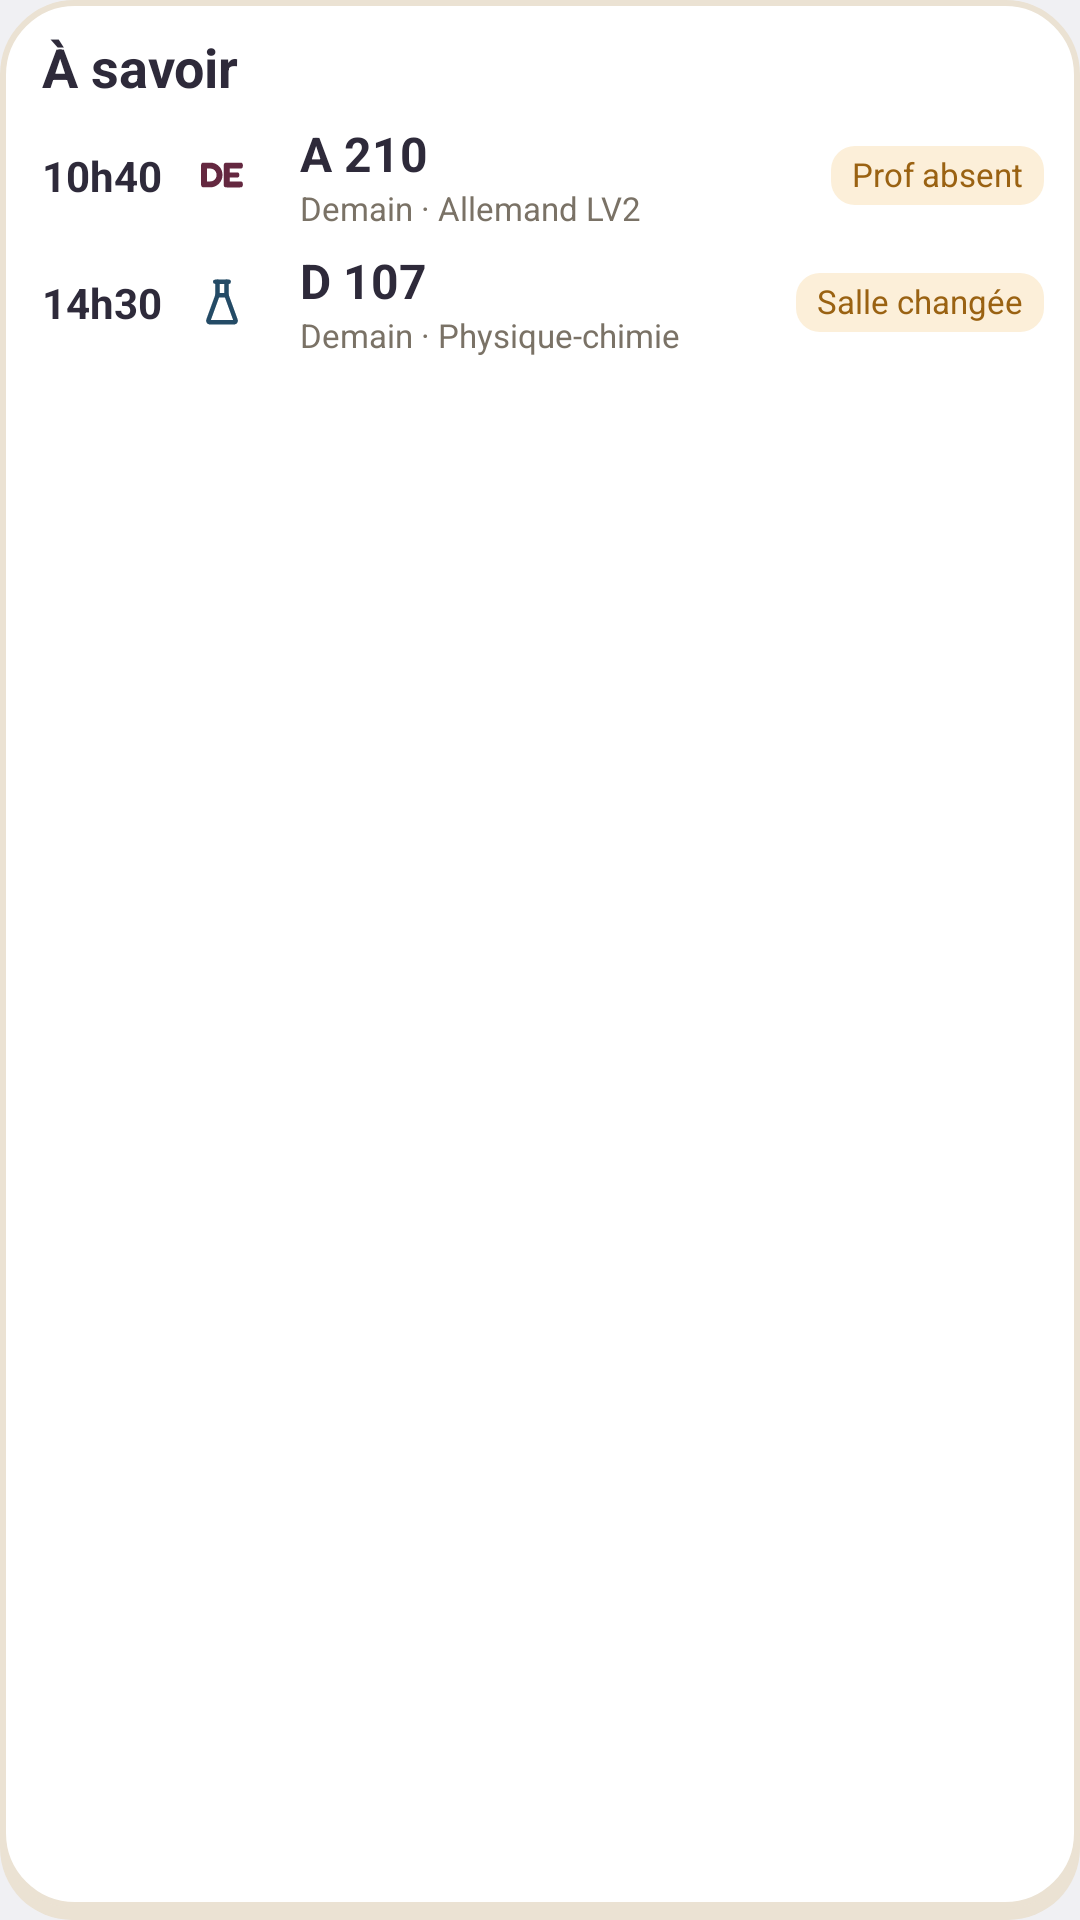

Locate icon controls on the screen. Image size 1080 × 1920, boxes as (x1=x1, y1=y1, x2=x2, y2=y2).
flask: (x1=206, y1=279, x2=238, y2=325)
